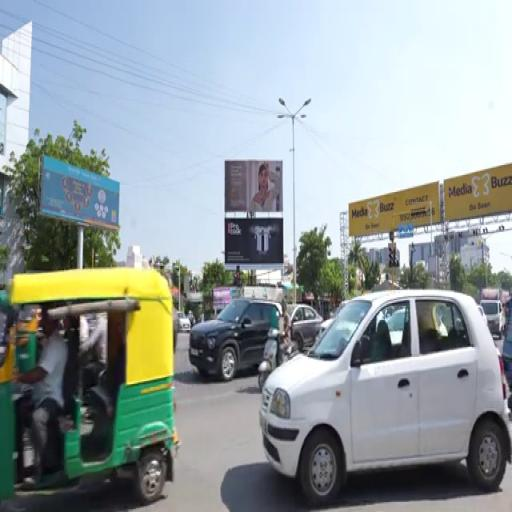Car: (260, 291, 511, 506), (189, 299, 281, 381), (288, 305, 323, 352), (317, 302, 346, 339), (177, 312, 191, 332), (173, 308, 179, 352), (478, 305, 487, 325)
